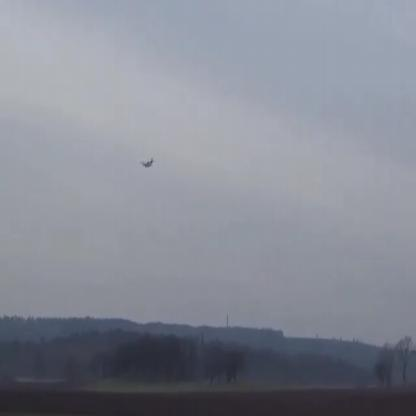CIV_Plane: (139, 158, 155, 168)
